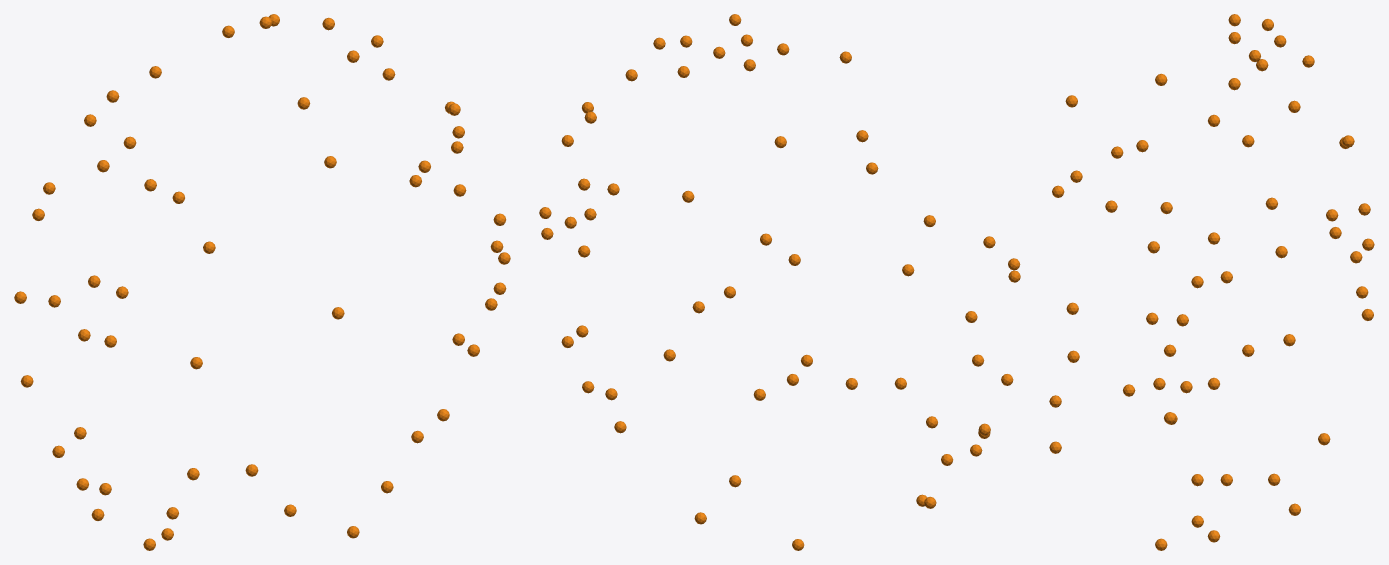
File: citrus_plain_f_fruit.obj
3 renders of one model, left to right at view 1: azimuth 30°, elevation 25°; view 2: azimuth 150°, elevation 25°; view 3: azimuth 270°, elevation 25°, orthographic. The views are drawn at different scales.
Visible parts, largest first — view 1: fruit; view 2: fruit; view 3: fruit.
Part boxes in pixels (left/top/right/bottom): fruit: left=14, top=14, right=510, bottom=550; fruit: left=539, top=14, right=1020, bottom=550; fruit: left=1049, top=14, right=1374, bottom=550.
Bounding box in the file's own units: 3.12 × 3.31 × 1.97.
